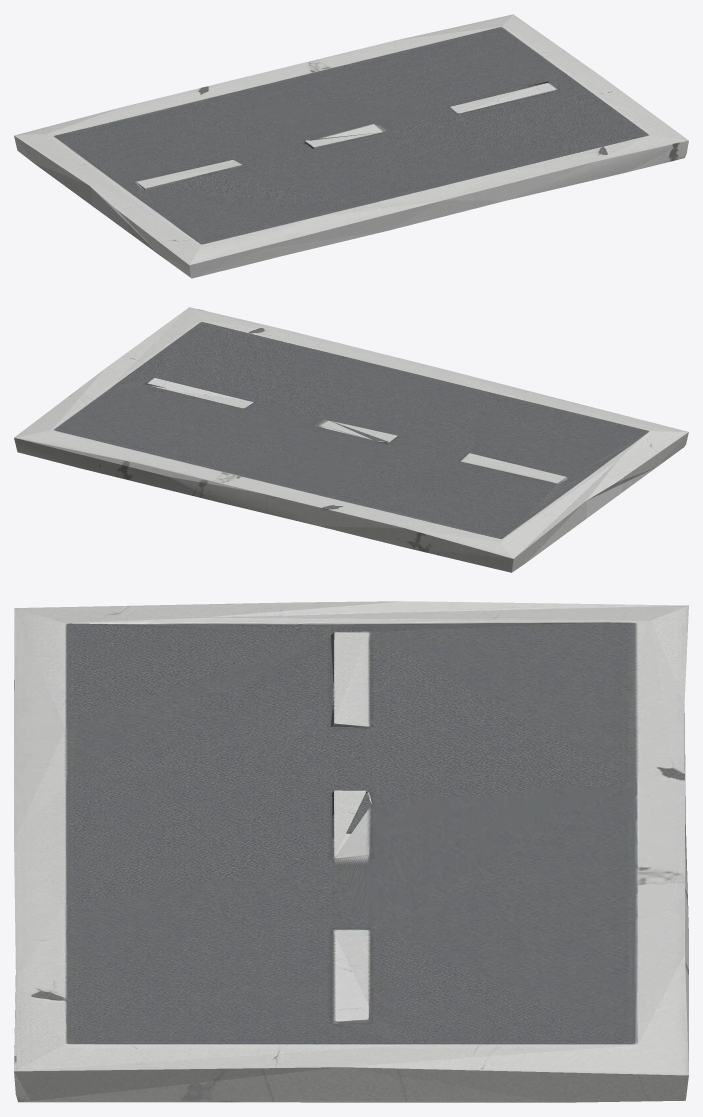
The model's file is road.glb.
The picture shows the model from 3 angles, top to bottom: view 1: azimuth 30°, elevation 25°; view 2: azimuth 150°, elevation 25°; view 3: azimuth 270°, elevation 25°; orthographic projection. The views are drawn at different scales.
Parts seen in each view (by area): view 1: output_unwrapped; view 2: output_unwrapped; view 3: output_unwrapped.
Part boxes in pixels (x1,y1,x2,y2): output_unwrapped: (14,14,688,278); output_unwrapped: (14,307,688,572); output_unwrapped: (14,601,688,1102).
Size of the model in its own units: 1.9 by 0.0867 by 1.15.
Materials: 1 (1 with a texture image).
